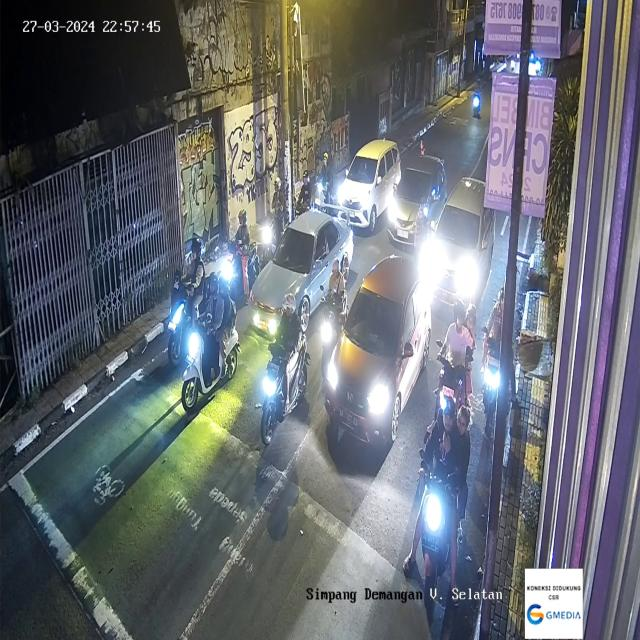car: (325, 255, 431, 452), (252, 207, 350, 334), (428, 178, 494, 302), (385, 155, 444, 251), (340, 142, 398, 233)
motorcycle: (416, 397, 467, 606), (176, 273, 242, 417), (260, 298, 308, 452), (434, 299, 477, 432), (171, 235, 207, 359), (483, 280, 515, 414), (317, 260, 348, 363), (224, 208, 258, 294), (260, 174, 290, 257), (317, 148, 338, 210), (299, 168, 315, 219), (474, 74, 483, 117)
